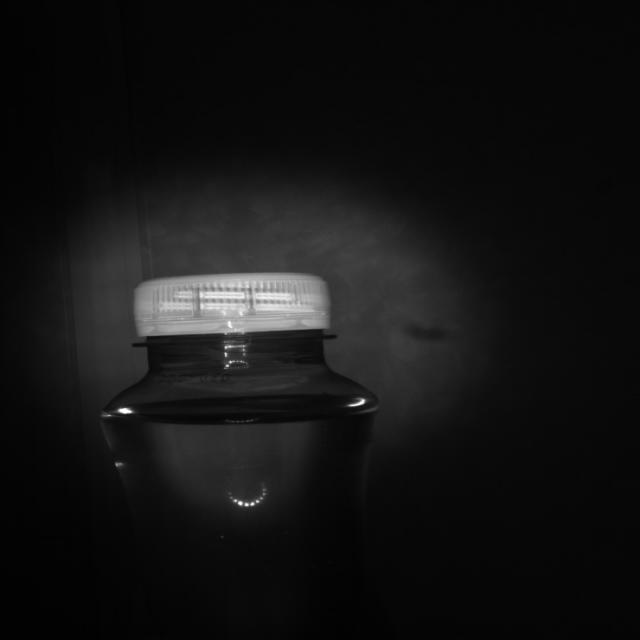Good: (132, 274, 333, 338)
